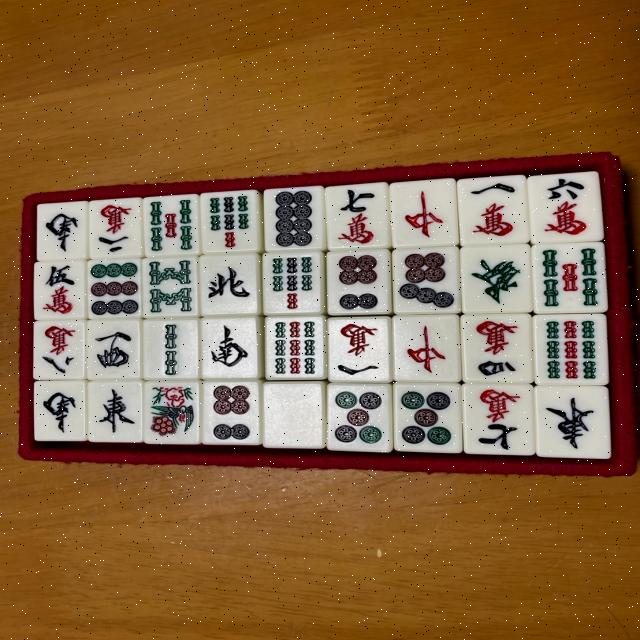bamboos_1: (143, 378, 202, 446)
bamboos_2: (143, 317, 202, 381)
bamboos_5: (531, 241, 611, 314), (142, 194, 204, 259)
bamboos_7: (262, 249, 328, 317), (200, 189, 262, 255)
bamboos_8: (142, 256, 202, 319)
bamboos_9: (532, 313, 611, 386), (262, 313, 330, 382)
characters_1: (456, 173, 532, 247), (326, 315, 393, 383)
characters_2: (88, 196, 144, 259)
characters_4: (459, 314, 535, 385)
characters_5: (32, 261, 88, 321)
characters_6: (526, 170, 606, 246)
characters_7: (461, 382, 536, 456), (325, 182, 392, 251)
characters_8: (32, 318, 85, 382)
circles_5: (324, 380, 394, 452), (392, 384, 462, 454)
circles_6: (326, 247, 393, 316), (199, 379, 262, 445)
circles_7: (392, 246, 462, 316)
circles_8: (262, 185, 328, 251)
circles_9: (85, 258, 144, 321)
east: (532, 386, 611, 462), (85, 379, 144, 445)
green: (459, 242, 535, 314)
north: (198, 252, 262, 317)
red: (387, 177, 459, 250), (390, 315, 464, 384)
south: (200, 315, 264, 382), (32, 379, 88, 442), (35, 202, 89, 262)
west: (85, 318, 141, 381)
white: (261, 380, 328, 450)
